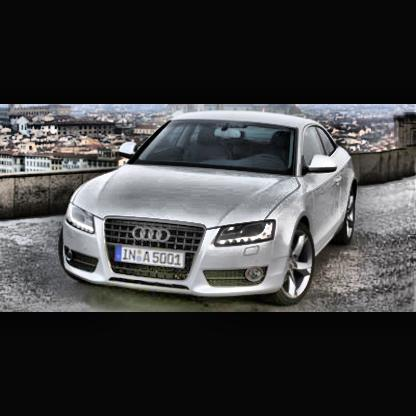Audi A5 Coupe 2012: (59, 112, 359, 308)
